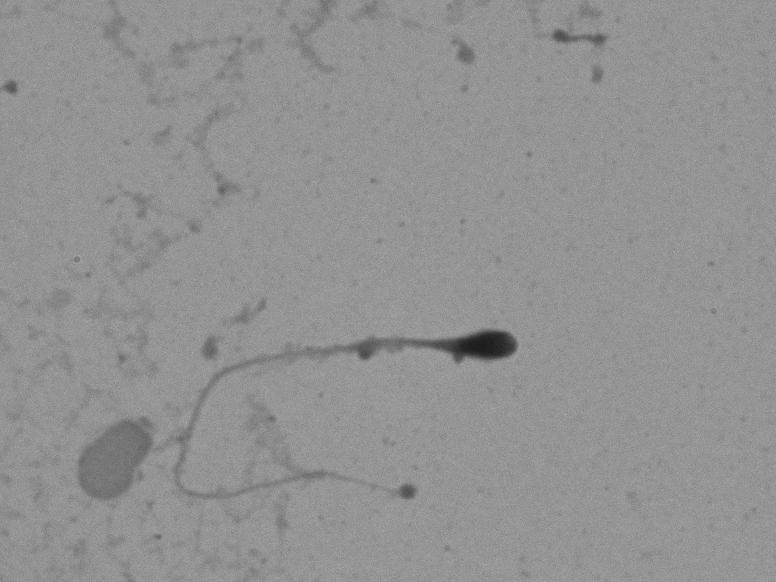Abnormal: (152, 301, 582, 529)
